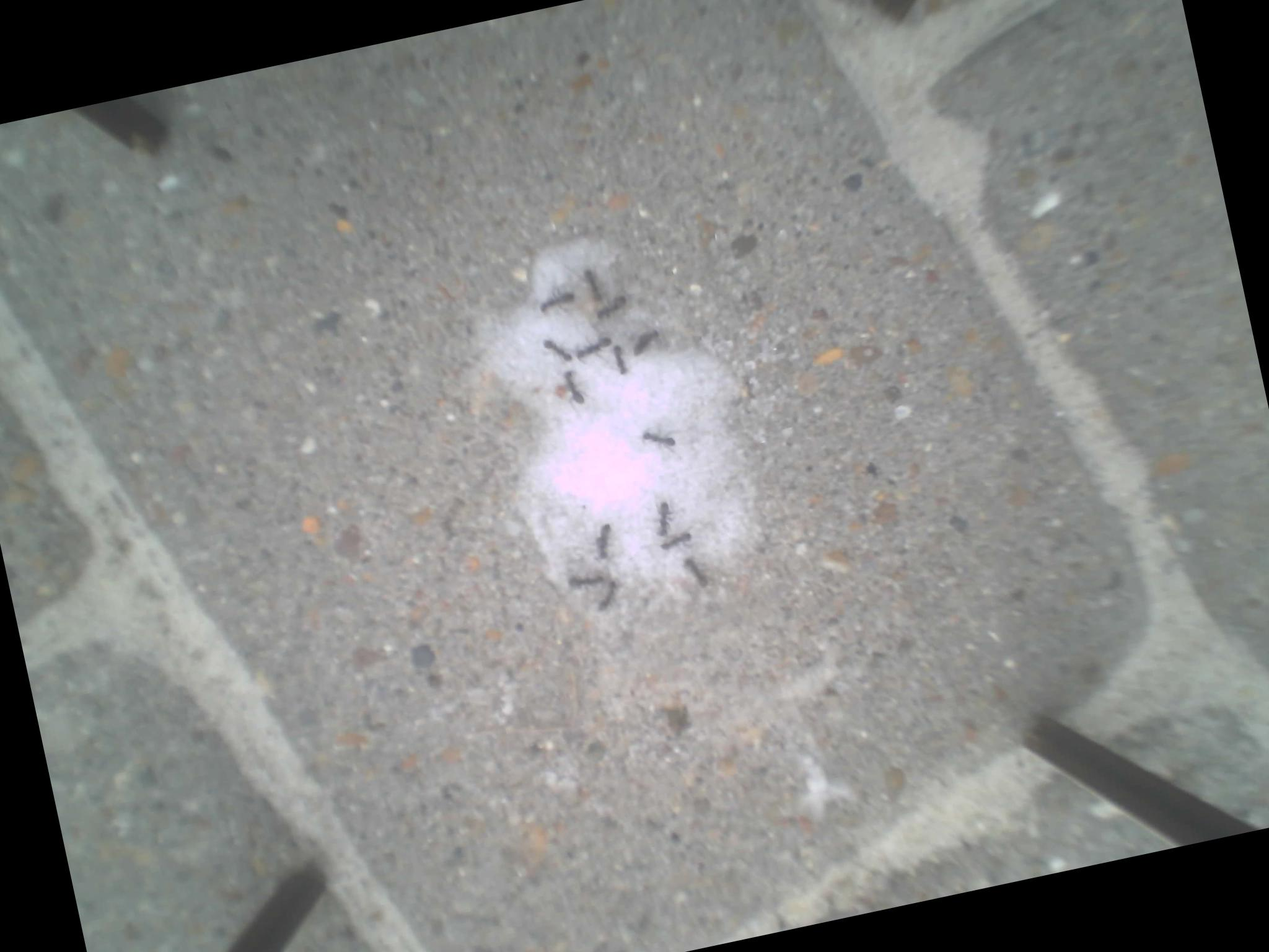Ant: (582, 514, 627, 575), (632, 417, 687, 466), (643, 490, 688, 549), (529, 277, 585, 324), (672, 544, 717, 600), (551, 363, 595, 418), (624, 318, 673, 364), (535, 328, 583, 374), (603, 334, 642, 383), (573, 260, 611, 309), (569, 332, 618, 366), (589, 575, 626, 616), (591, 291, 632, 324), (563, 567, 608, 597), (656, 528, 698, 556)
